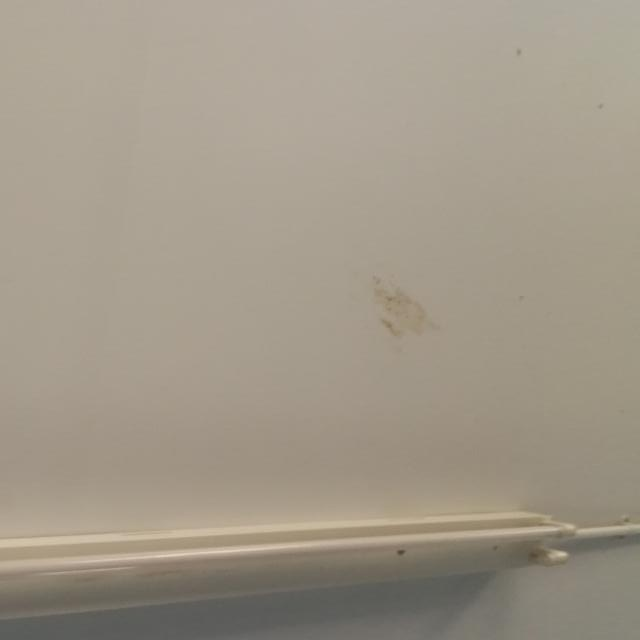fluorescent tube: (0, 495, 588, 640)
